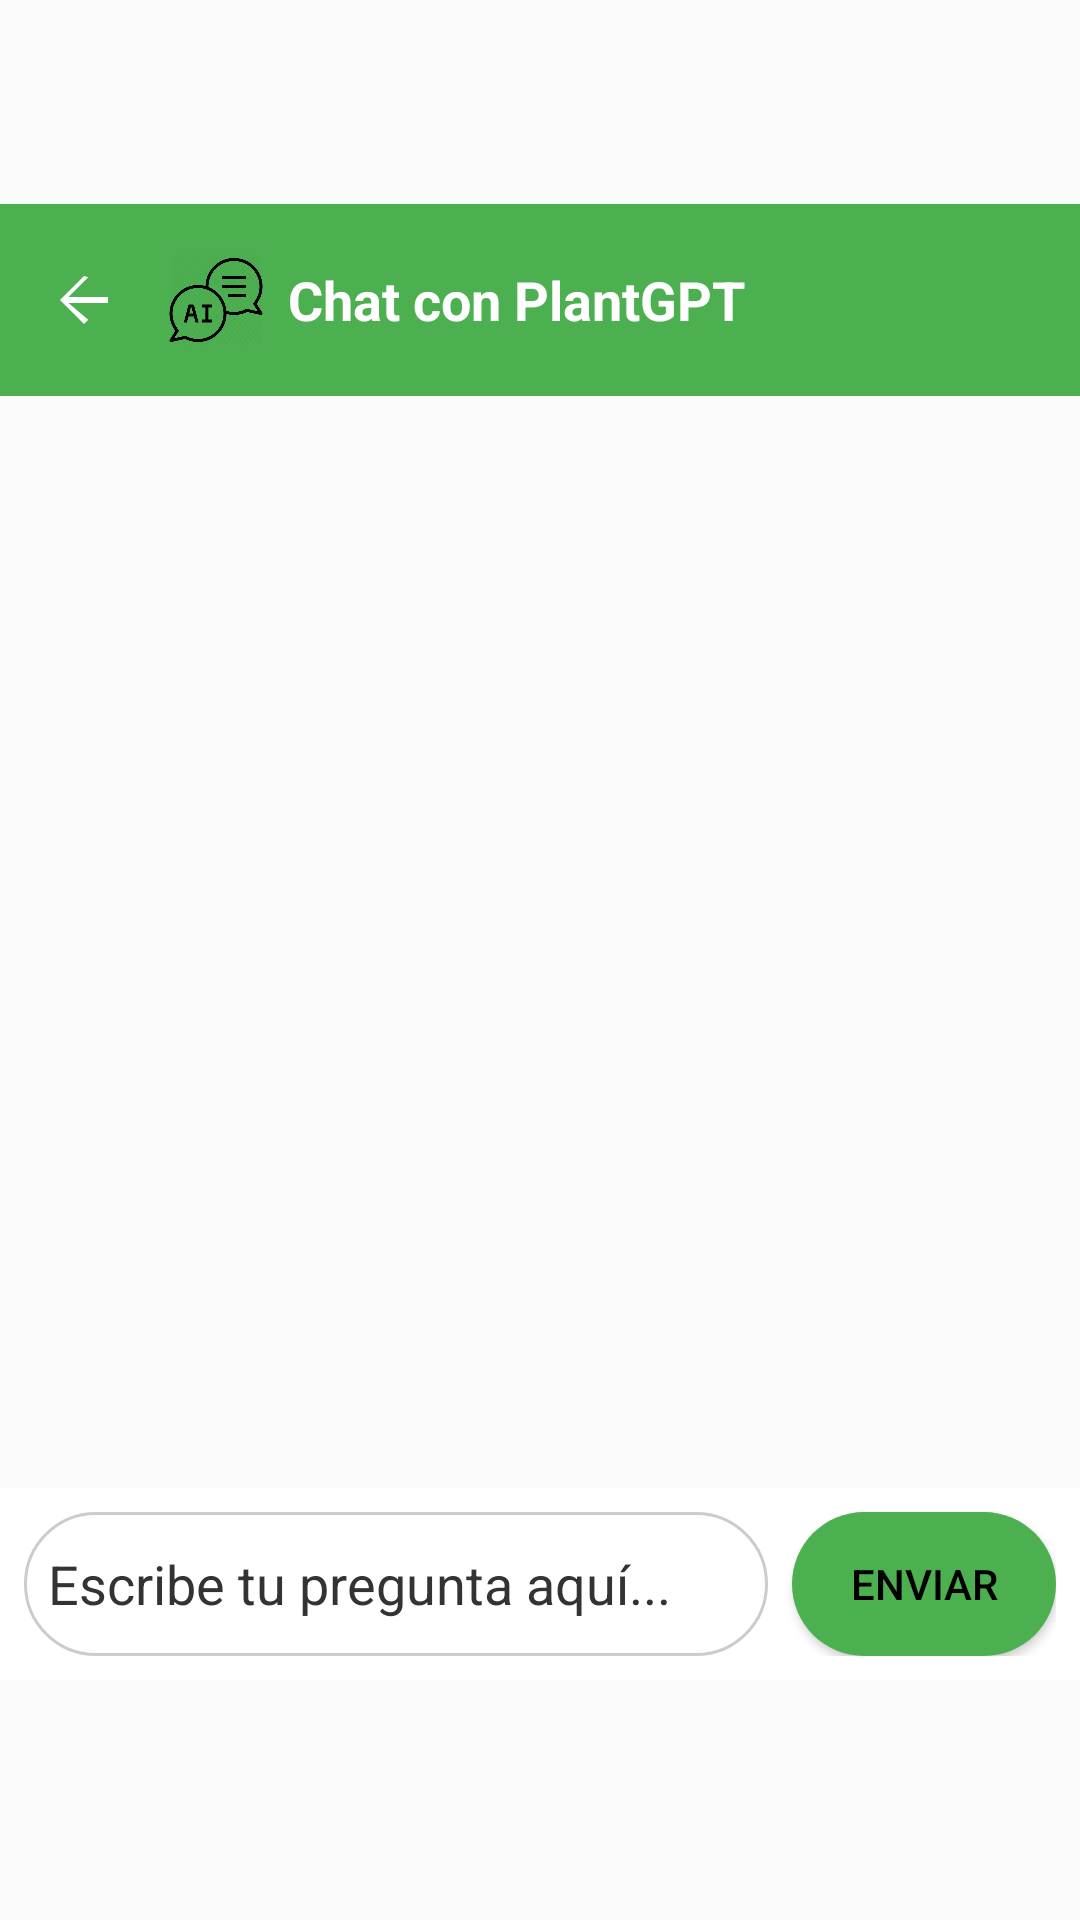

Icon click points for this 1080*1920 phone screenshot, format (x,y):
Botón de retroceso: (84,300)
chatbot: (216,300)
